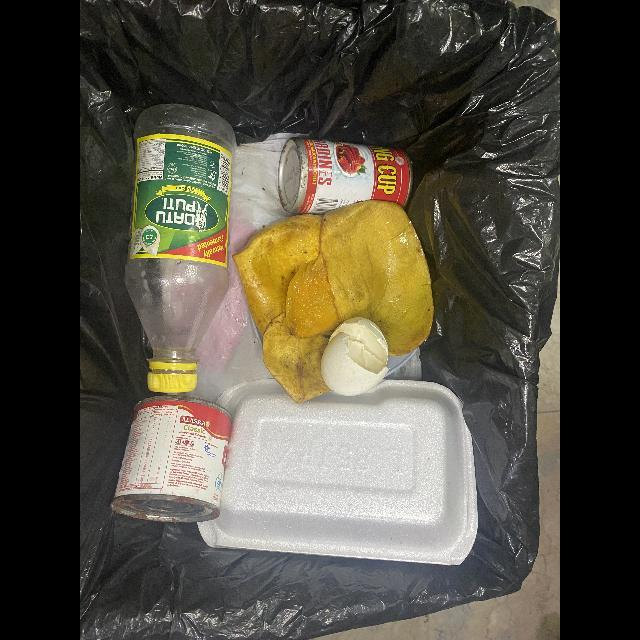aluminum: (110, 395, 232, 523), (278, 137, 413, 216)
plastic_bottle: (125, 104, 237, 395)
